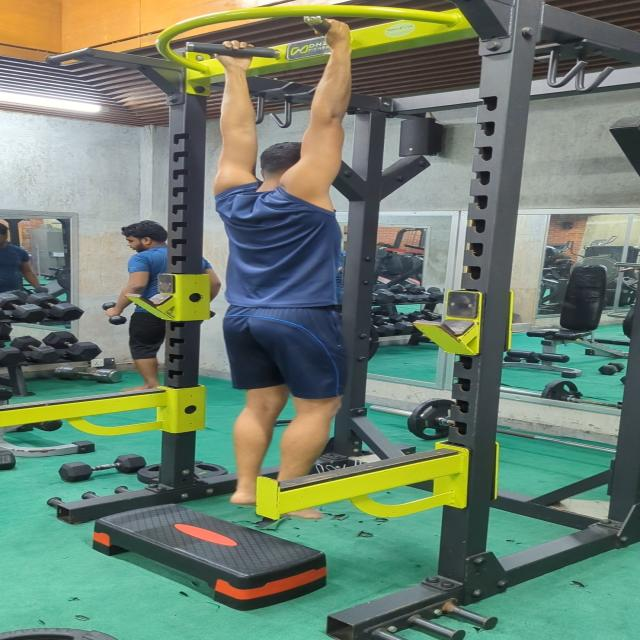Normal_PullUps: (203, 16, 362, 522)
